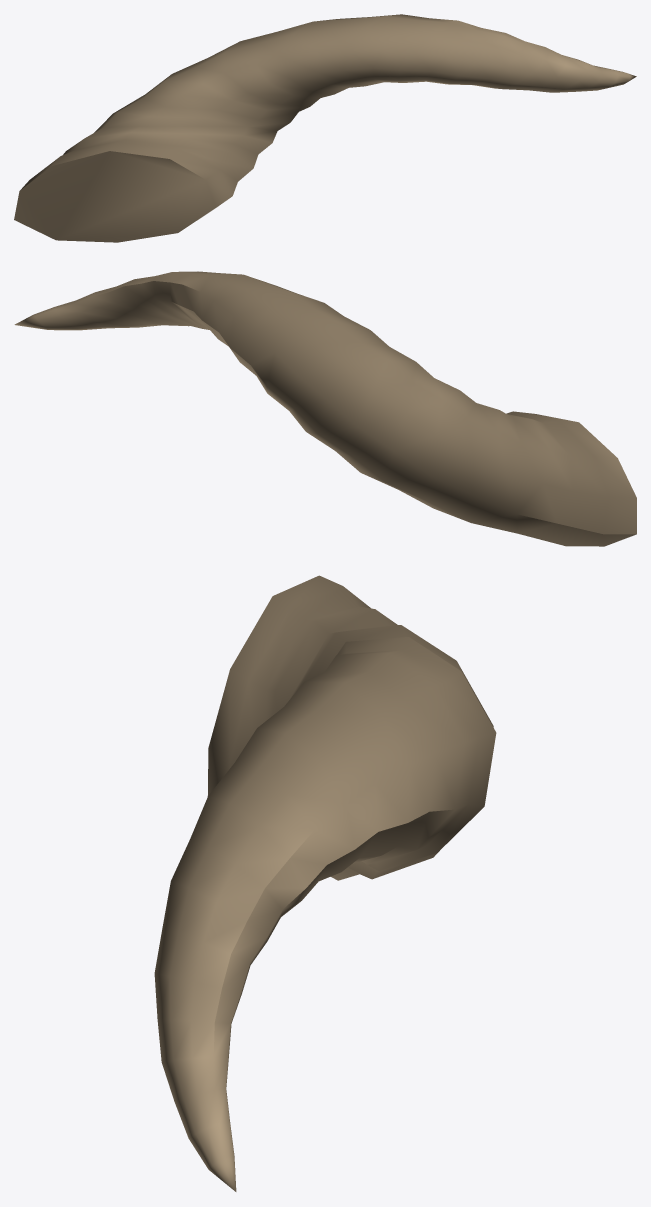
File: gale_ram_horn.glb
The picture shows the model from 3 angles, top to bottom: view 1: azimuth 30°, elevation 25°; view 2: azimuth 150°, elevation 25°; view 3: azimuth 270°, elevation 25°; orthographic projection. The views are drawn at different scales.
Visible parts, largest first — view 1: gale_ram_horn; view 2: gale_ram_horn; view 3: gale_ram_horn.
Part boxes in pixels (x1=…): gale_ram_horn: x1=14, y1=14, x2=636, y2=242; gale_ram_horn: x1=14, y1=271, x2=636, y2=546; gale_ram_horn: x1=154, y1=575, x2=496, y2=1191.
Size of the model in its own units: 0.16 by 0.04 by 0.04.
